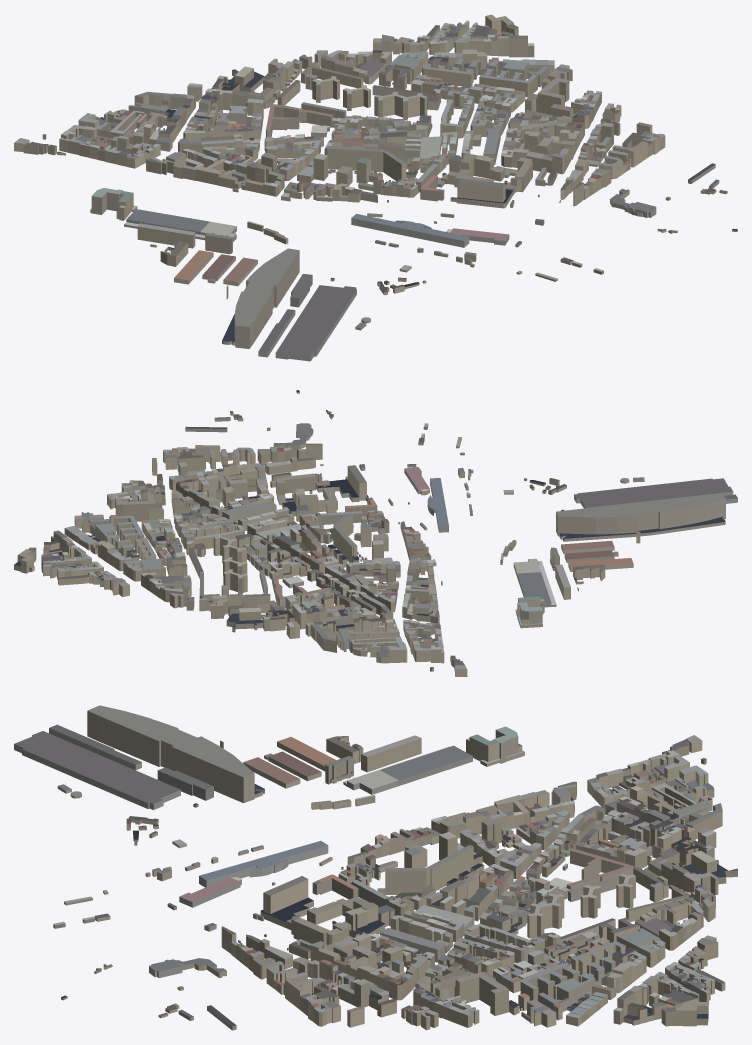
3 renders of one model, top to bottom at view 1: azimuth 30°, elevation 25°; view 2: azimuth 150°, elevation 25°; view 3: azimuth 270°, elevation 25°, orthographic. The views are drawn at different scales.
Visible parts, largest first — view 1: tuile; view 2: tuile; view 3: tuile.
Boxes of the visible parts, bbox=[...] form: tuile: bbox=[14, 14, 737, 361]; tuile: bbox=[14, 390, 737, 676]; tuile: bbox=[14, 705, 737, 1030].
Bounding box in the file's own units: 1128 × 54.42 × 1107.
